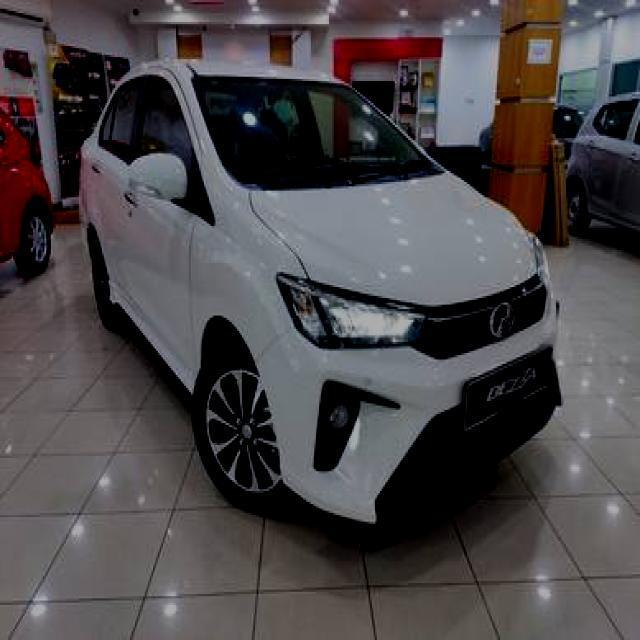PeroduaBezza: (76, 56, 563, 532)
